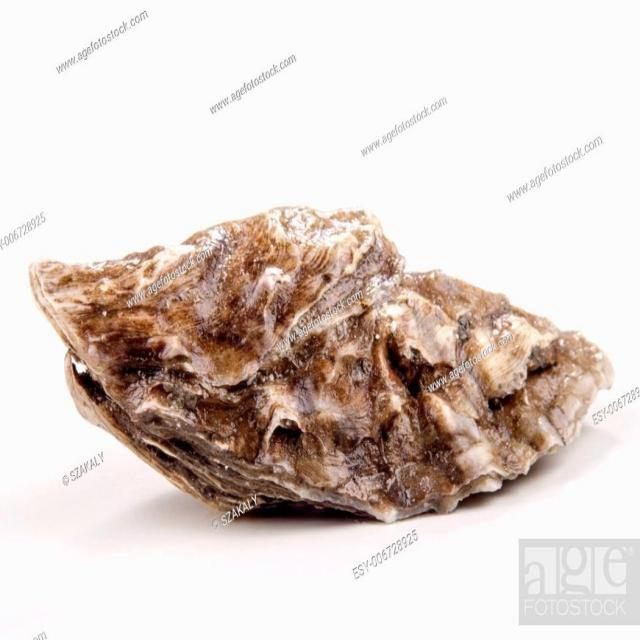Oyster-Closed: (31, 208, 612, 521)
